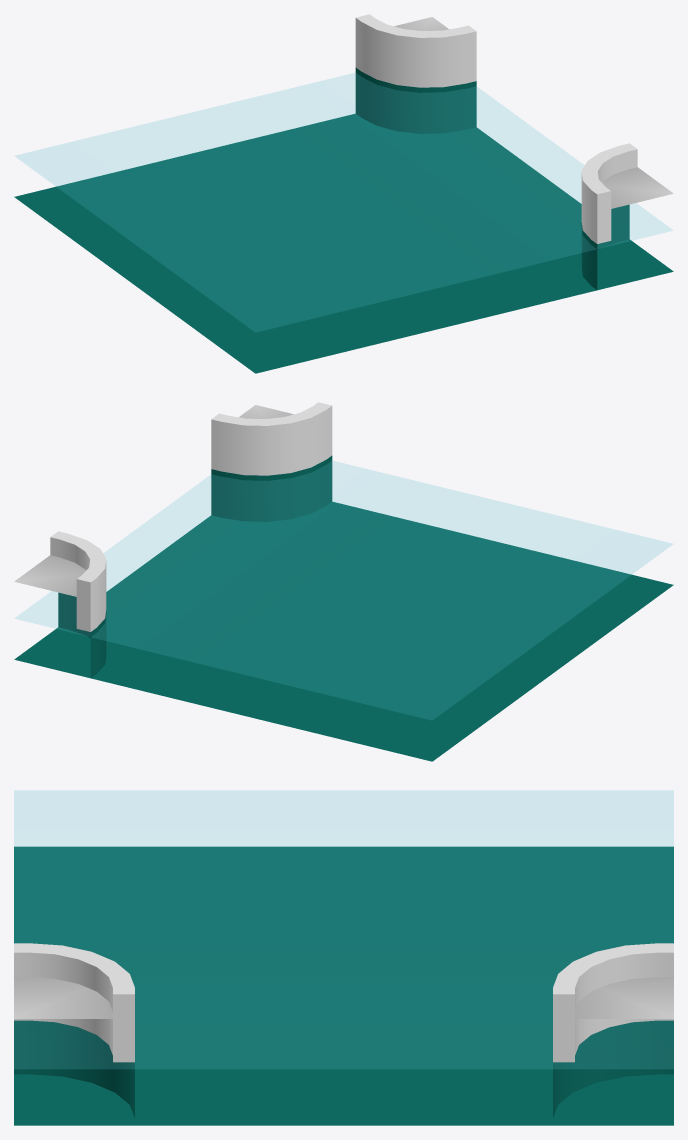
File: Water_12.glb
3 renders of one model, top to bottom at view 1: azimuth 30°, elevation 25°; view 2: azimuth 150°, elevation 25°; view 3: azimuth 270°, elevation 25°, orthographic. The views are drawn at different scales.
Visible parts, largest first — view 1: Water_12; view 2: Water_12; view 3: Water_12.
Part boxes in pixels (x1,y1,x2,y2): Water_12: (14, 14, 673, 373); Water_12: (14, 402, 673, 761); Water_12: (14, 791, 673, 1125).
Bounding box in the file's own units: 15 × 3.29 × 15.
2 materials, 2 textured.
